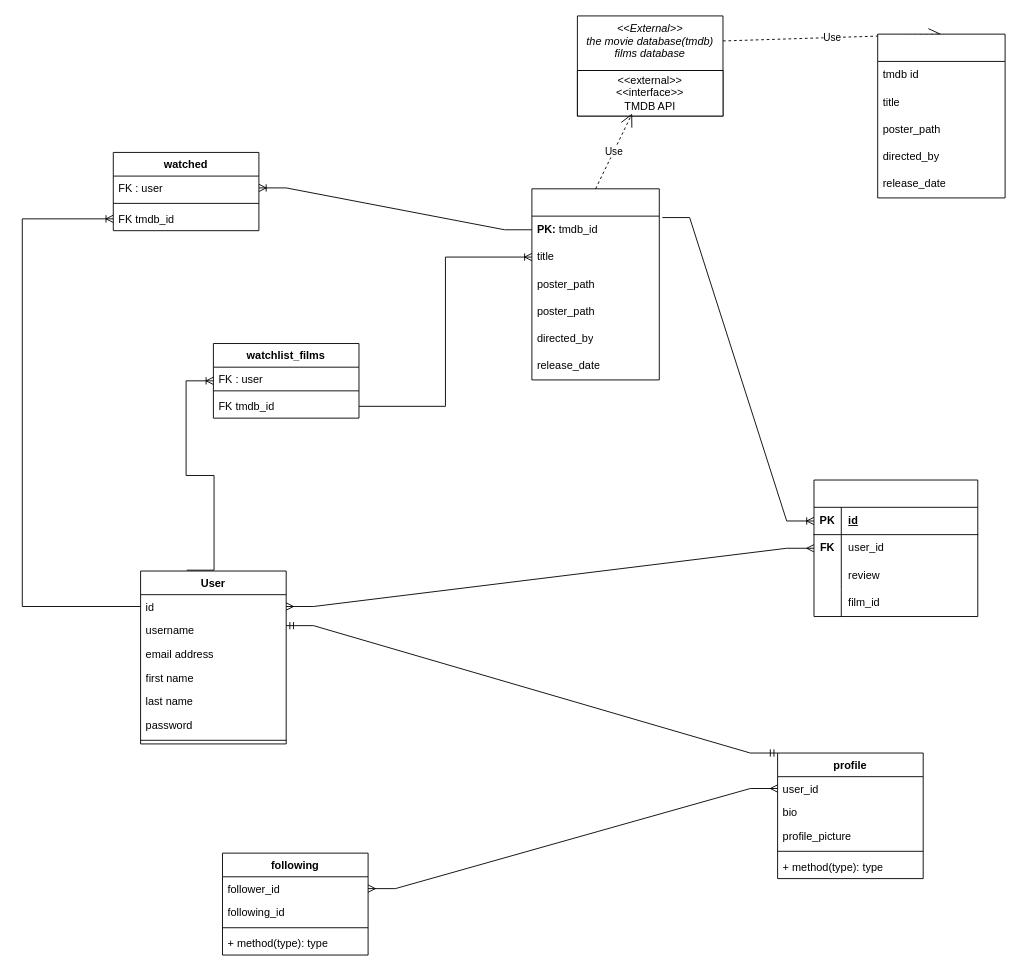
Some shapes in this 1021 by 974 pixel diagram are drawn without their labels. The shapes that lost their labels are listed below. From the top down, each one's box as (x1, y1, x2, y2) in pixels, then its label:
(877, 33, 1005, 198): Wachlist films
(531, 188, 659, 380): film
(813, 479, 978, 617): reviews
